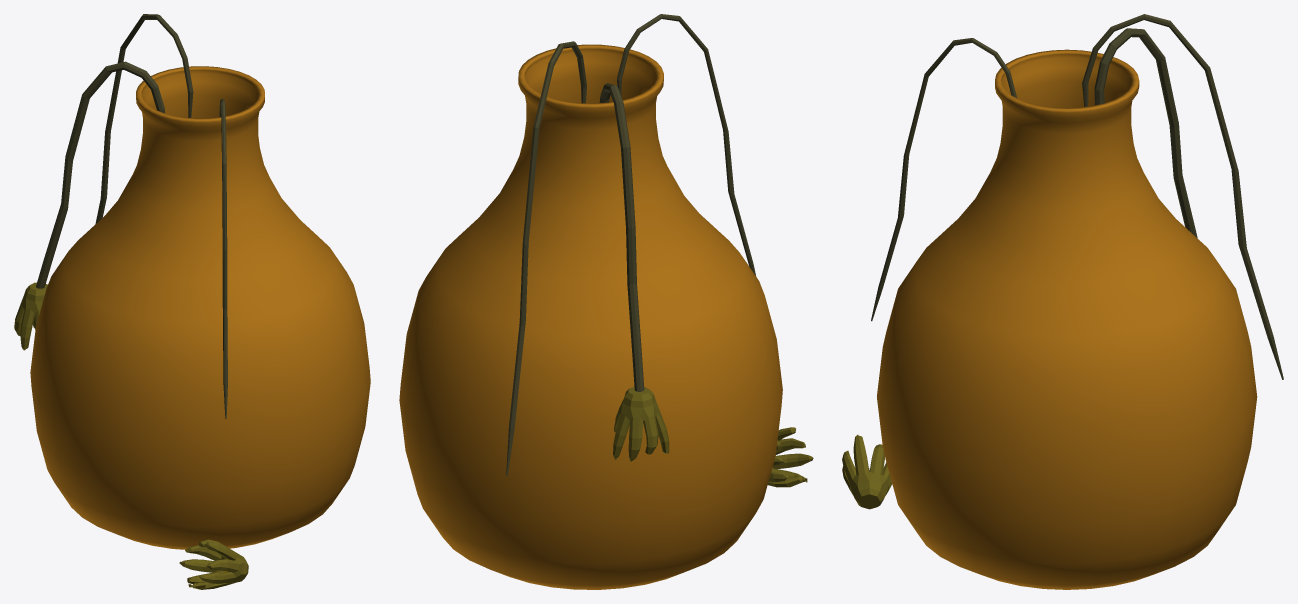
3 renders of one model, left to right at view 1: azimuth 30°, elevation 25°; view 2: azimuth 150°, elevation 25°; view 3: azimuth 270°, elevation 25°, orthographic. The views are drawn at different scales.
Visible parts, largest first — view 1: 円柱.001; view 2: 円柱.001; view 3: 円柱.001.
Part boxes in pixels (x1,y1,x2,y2): 円柱.001: (14,14,370,589); 円柱.001: (399,14,813,589); 円柱.001: (842,14,1283,589).
Bounding box in the file's own units: 127 × 191 × 147.
